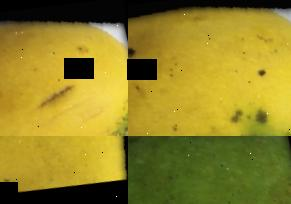Ripe: (128, 0, 291, 136), (0, 0, 128, 136), (0, 136, 128, 204)
Unripe: (128, 136, 291, 204)
